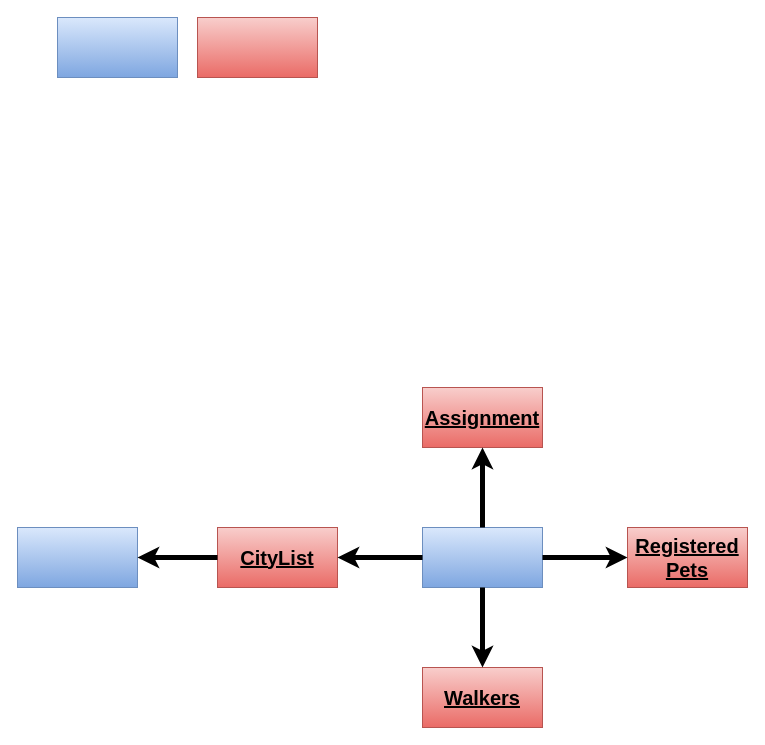
The diagram is 765 pixels wide and 745 high, and some of its shapes have lost their labels. Each missing label, with the box of its shape:
Database: (16, 526, 138, 588)
Main: (422, 526, 542, 588)
